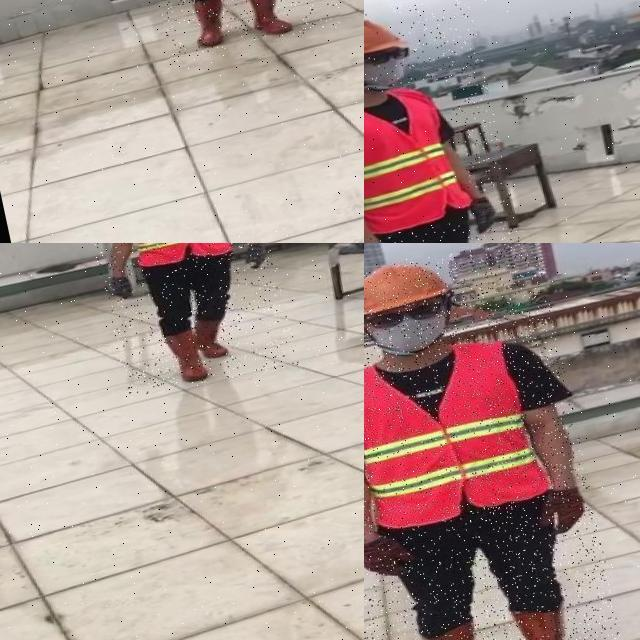boots: (514, 596, 600, 640), (163, 325, 209, 384), (239, 0, 293, 40), (187, 0, 230, 49), (197, 314, 230, 363)
helmet: (364, 253, 451, 320), (364, 9, 402, 70)
vest: (364, 334, 551, 536), (364, 77, 473, 243), (122, 243, 235, 272)
